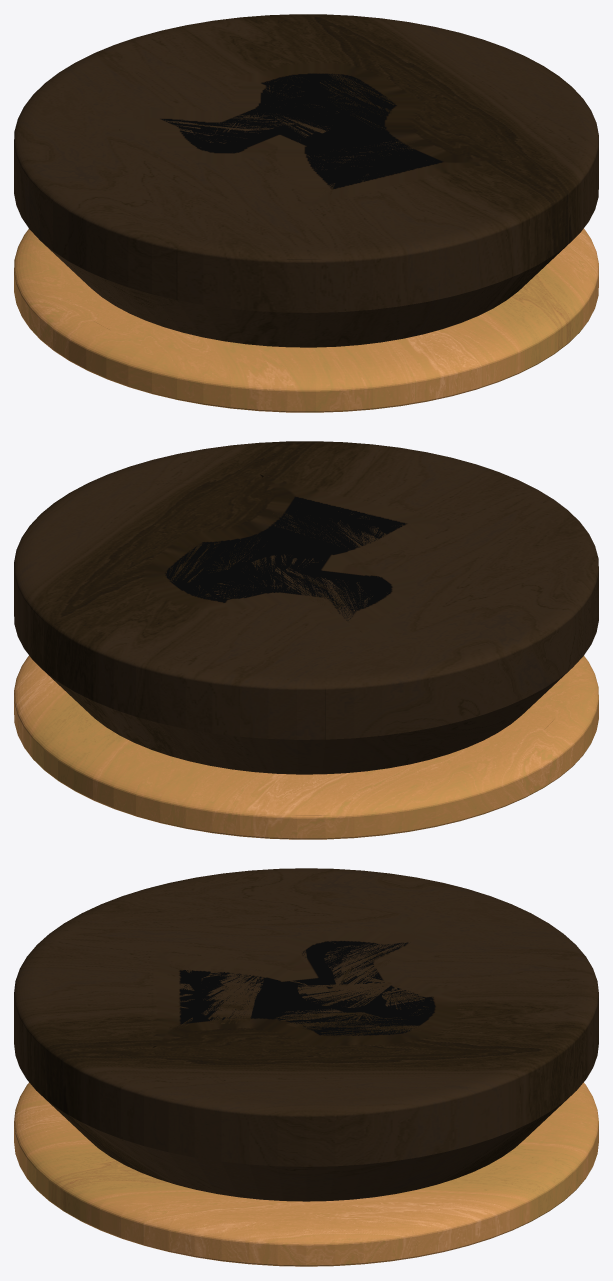
File: dark_elephant.fbx
The picture shows the model from 3 angles, top to bottom: view 1: azimuth 30°, elevation 25°; view 2: azimuth 150°, elevation 25°; view 3: azimuth 270°, elevation 25°; orthographic projection.
Parts seen in each view (by area): view 1: PedestalTopPart_Cylinder.002, PedestalBottomPart_Cylinder.001; view 2: PedestalTopPart_Cylinder.002, PedestalBottomPart_Cylinder.001; view 3: PedestalTopPart_Cylinder.002, PedestalBottomPart_Cylinder.001.
Boxes of the visible parts, x1=… form: PedestalTopPart_Cylinder.002: x1=14, y1=14, x2=598, y2=347; PedestalBottomPart_Cylinder.001: x1=14, y1=228, x2=598, y2=412; PedestalTopPart_Cylinder.002: x1=14, y1=441, x2=598, y2=774; PedestalBottomPart_Cylinder.001: x1=14, y1=655, x2=598, y2=839; PedestalTopPart_Cylinder.002: x1=14, y1=868, x2=598, y2=1201; PedestalBottomPart_Cylinder.001: x1=14, y1=1082, x2=598, y2=1266.
Bounding box in the file's own units: 30 × 9.09 × 30.
Materials: 2 (2 with a texture image).
